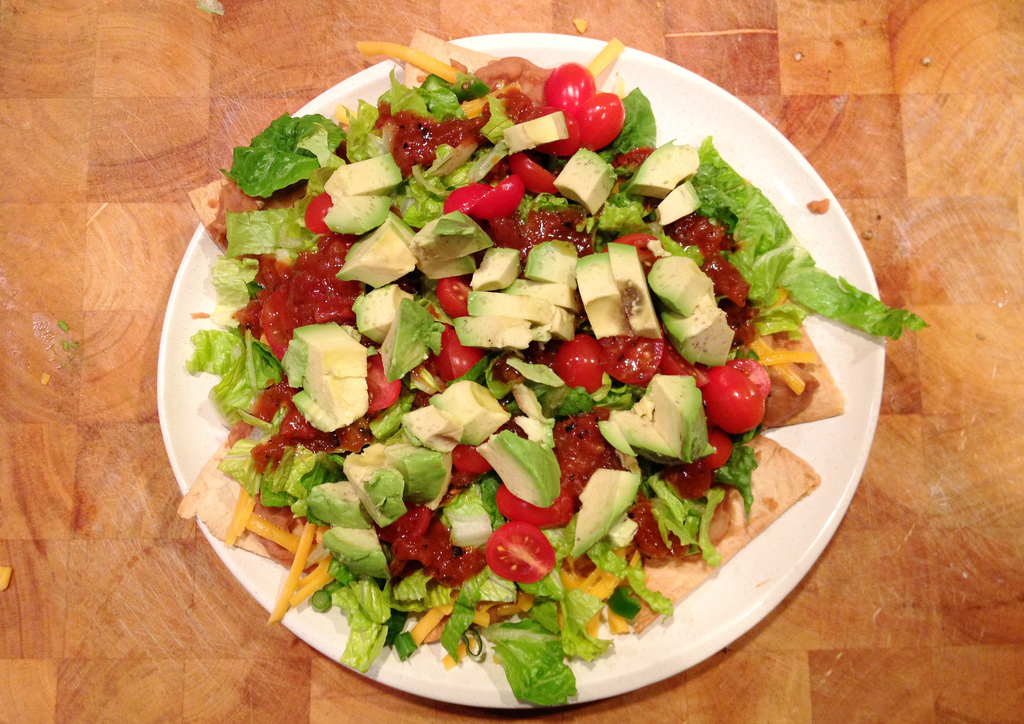chopped lettuce: (208, 83, 503, 285), (691, 140, 906, 347), (211, 329, 383, 519), (337, 570, 601, 693)
